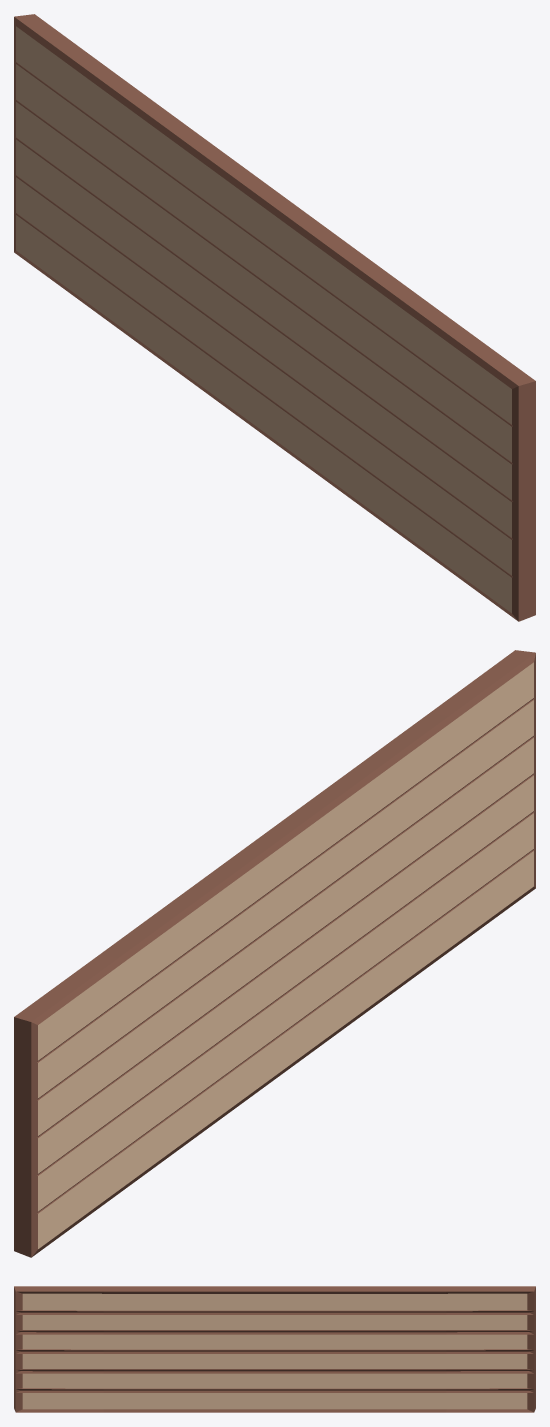
The model's file is BlockrJuniper.glb.
3 views of the same model, one above another, from view 1: azimuth 30°, elevation 25°; view 2: azimuth 150°, elevation 25°; view 3: azimuth 270°, elevation 25° (orthographic). The views are drawn at different scales.
Parts seen in each view (by area): view 1: Cube.015; view 2: Cube.015; view 3: Cube.015.
Boxes of the visible parts, x1,y1,x2,y2 form: Cube.015: (14, 14, 535, 621); Cube.015: (14, 650, 535, 1257); Cube.015: (14, 1286, 535, 1412).
Bounding box in the file's own units: 0.0847 × 0.8937 × 3.47.
Materials: 1 (1 with a texture image).
